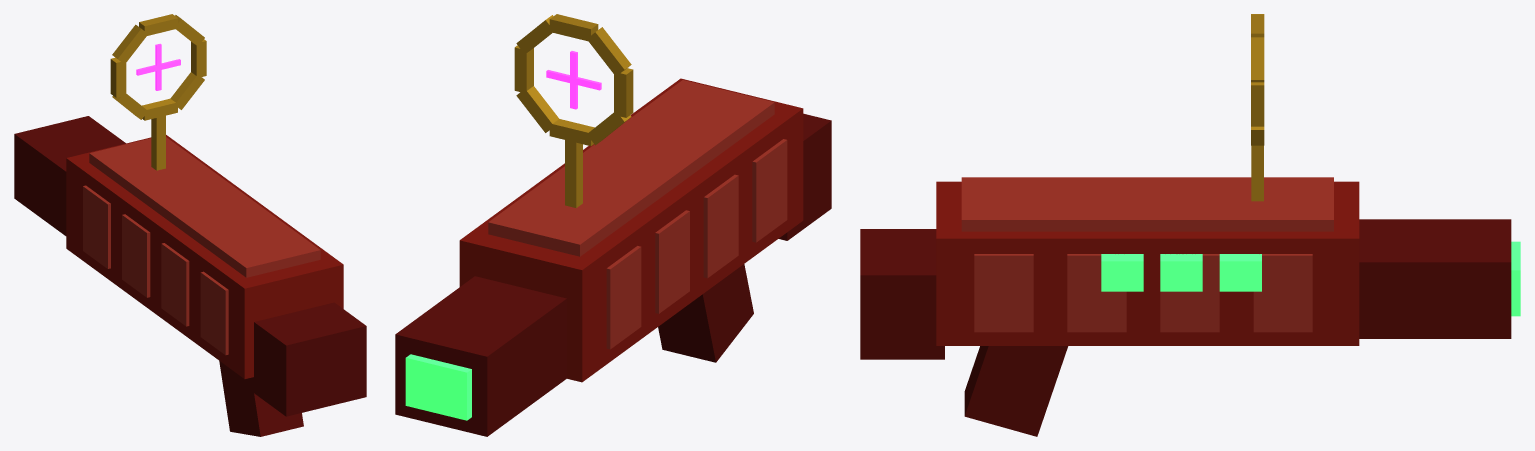
File: plasma_rifle.glb
3 renders of one model, left to right at view 1: azimuth 30°, elevation 25°; view 2: azimuth 150°, elevation 25°; view 3: azimuth 270°, elevation 25°, orthographic. The views are drawn at different scales.
Parts seen in each view (by area): view 1: Body; view 2: Body; view 3: Body.
Boxes of the visible parts, x1,y1,x2,y2 form: Body: [14, 14, 366, 436]; Body: [395, 14, 831, 436]; Body: [860, 14, 1520, 436].
Size of the model in its own units: 0.185 by 0.5227 by 0.781.
